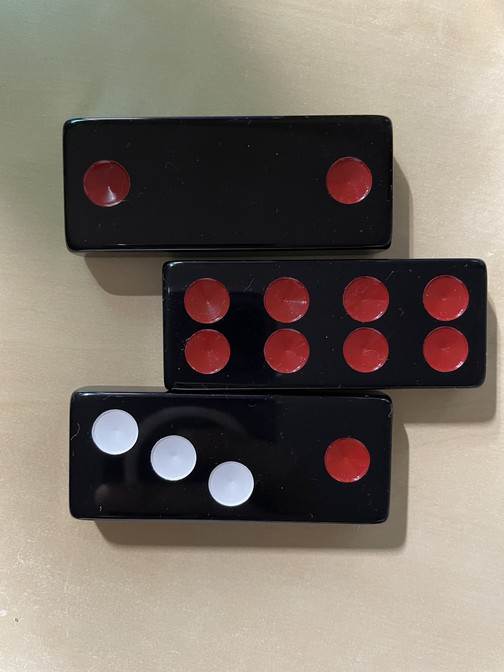earth: (65, 117, 394, 254)
goose: (69, 387, 394, 525)
man: (165, 260, 484, 391)
